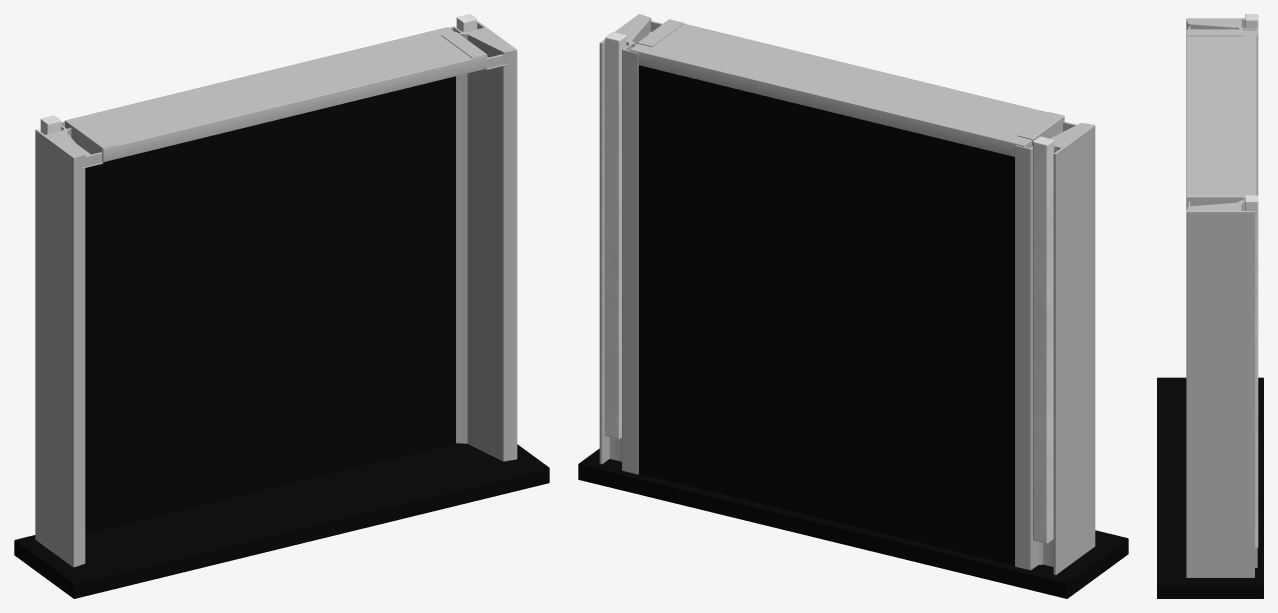
The model's file is SM_Kitchen_05_Base_Drawer_01.obj.
3 renders of one model, left to right at view 1: azimuth 30°, elevation 25°; view 2: azimuth 150°, elevation 25°; view 3: azimuth 270°, elevation 25°, orthographic. The views are drawn at different scales.
Parts seen in each view (by area): view 1: SM_Kitchen_05_Base_Drawer_01; view 2: SM_Kitchen_05_Base_Drawer_01; view 3: SM_Kitchen_05_Base_Drawer_01.
Boxes of the visible parts, x1,y1,x2,y2 form: SM_Kitchen_05_Base_Drawer_01: (14,14,549,598); SM_Kitchen_05_Base_Drawer_01: (578,14,1128,598); SM_Kitchen_05_Base_Drawer_01: (1157,14,1263,598).
Size of the model in its own units: 0.5969 by 0.5199 by 0.13.
Materials: 4 (1 with a texture image).
